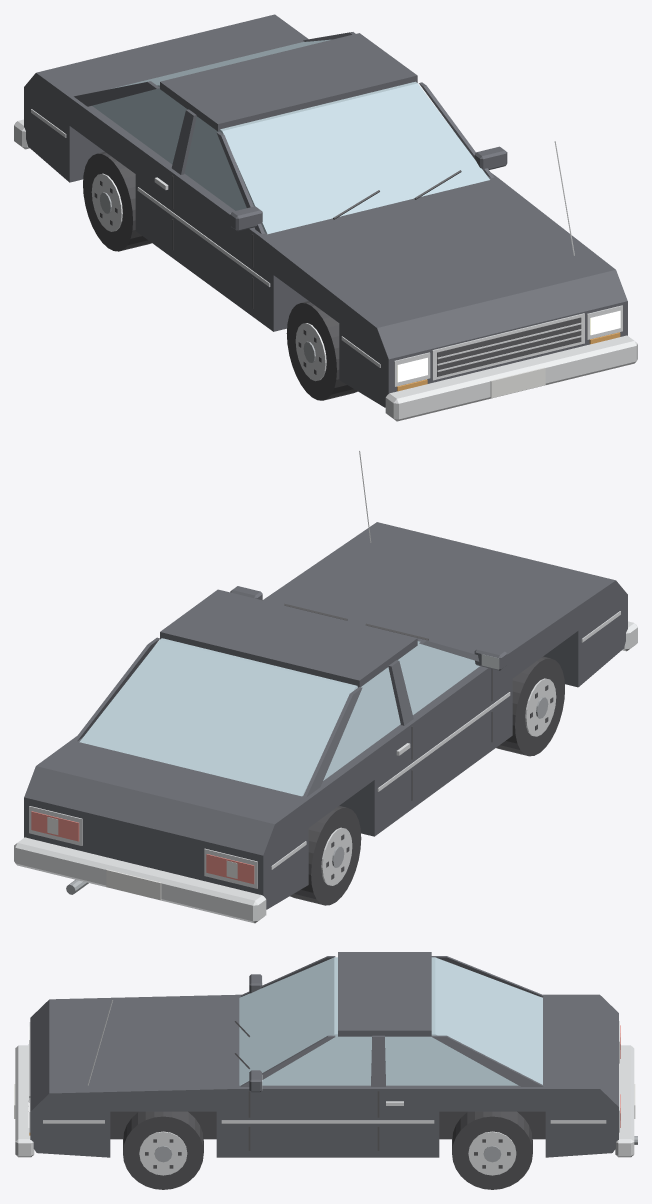
File: car_coupe_k.glb
The picture shows the model from 3 angles, top to bottom: view 1: azimuth 30°, elevation 25°; view 2: azimuth 150°, elevation 25°; view 3: azimuth 270°, elevation 25°; orthographic projection. The views are drawn at different scales.
Visible parts, largest first — view 1: car_coupe_k_car_k, car_coupe_k_glass, car_coupe_k_chrome, car_coupe_k_rubber, car_coupe_k_dark, car_coupe_k_lamp_glass, car_coupe_k_paint_w; view 2: car_coupe_k_car_k, car_coupe_k_glass, car_coupe_k_chrome, car_coupe_k_rubber, car_coupe_k_neon_r, car_coupe_k_paint_w, car_coupe_k_dark; view 3: car_coupe_k_car_k, car_coupe_k_glass, car_coupe_k_rubber, car_coupe_k_chrome, car_coupe_k_dark, car_coupe_k_steel.
Part boxes in pixels (x1,y1,x2,y2): car_coupe_k_car_k: (24, 14, 627, 407); car_coupe_k_glass: (92, 39, 489, 234); car_coupe_k_chrome: (14, 109, 637, 421); car_coupe_k_rubber: (83, 152, 357, 400); car_coupe_k_dark: (94, 170, 581, 376); car_coupe_k_lamp_glass: (397, 310, 620, 382); car_coupe_k_paint_w: (490, 367, 545, 398); car_coupe_k_car_k: (24, 522, 627, 909); car_coupe_k_glass: (79, 638, 479, 796); car_coupe_k_chrome: (14, 450, 637, 923); car_coupe_k_rubber: (290, 656, 564, 905); car_coupe_k_neon_r: (31, 811, 254, 884); car_coupe_k_paint_w: (47, 817, 237, 900); car_coupe_k_dark: (284, 603, 553, 879); car_coupe_k_car_k: (30, 952, 618, 1157); car_coupe_k_glass: (239, 957, 542, 1085); car_coupe_k_rubber: (110, 1111, 545, 1189); car_coupe_k_chrome: (15, 1000, 634, 1175); car_coupe_k_dark: (29, 1021, 510, 1168); car_coupe_k_steel: (154, 1136, 637, 1162).
Size of the model in its own units: 2 by 1.6 by 4.93.
